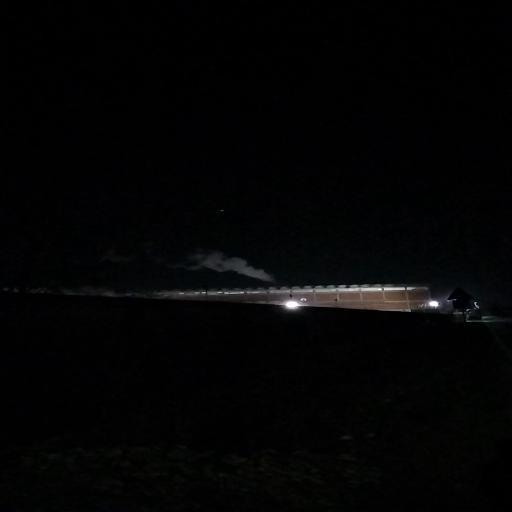leakage: (174, 240, 283, 287)
